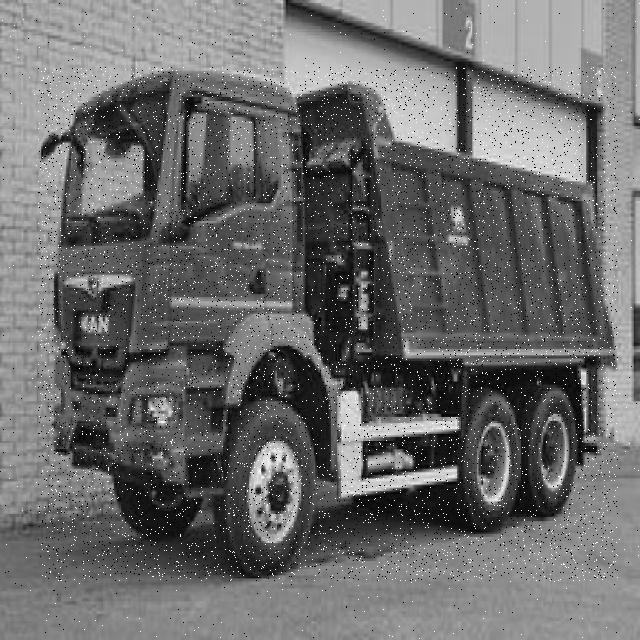Box Truck: (38, 67, 618, 581)
